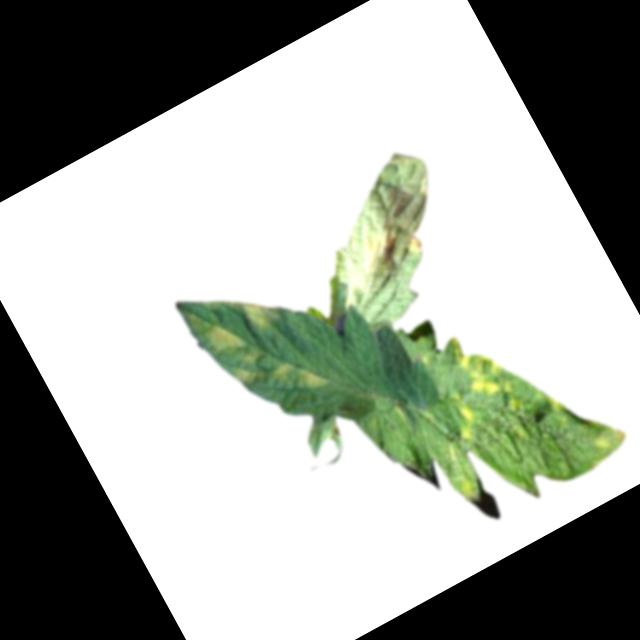Leaf_Mold: (448, 321, 523, 406), (347, 210, 425, 281), (268, 345, 334, 406), (196, 307, 253, 364), (234, 281, 287, 336), (577, 420, 632, 468), (444, 397, 486, 447), (228, 352, 267, 391)
